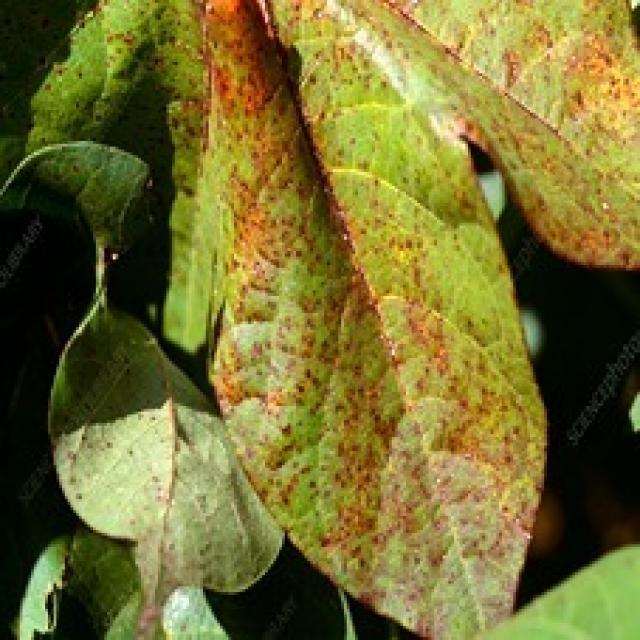Bacterial_Spot: (195, 7, 526, 626), (484, 0, 640, 268)
